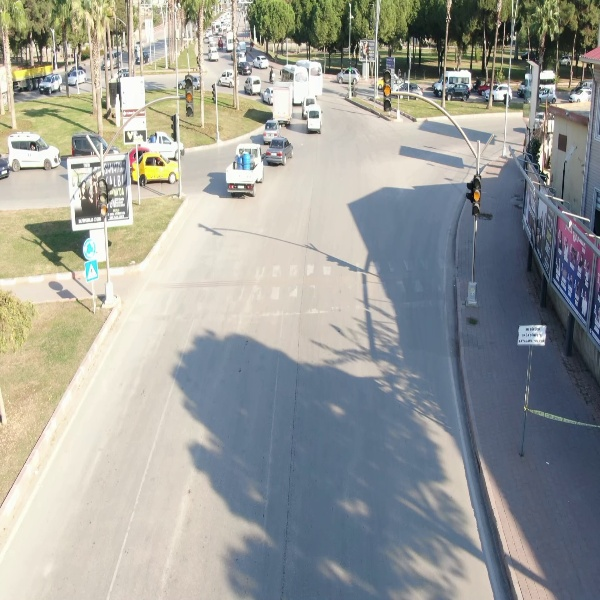car: (5, 130, 65, 172), (129, 151, 184, 189), (260, 136, 297, 170), (482, 80, 517, 107), (305, 103, 329, 139), (36, 71, 65, 99), (441, 83, 472, 107), (65, 66, 95, 90), (214, 66, 239, 92), (334, 65, 361, 89), (262, 116, 282, 145), (241, 73, 262, 99), (251, 50, 269, 70), (206, 47, 222, 63)
